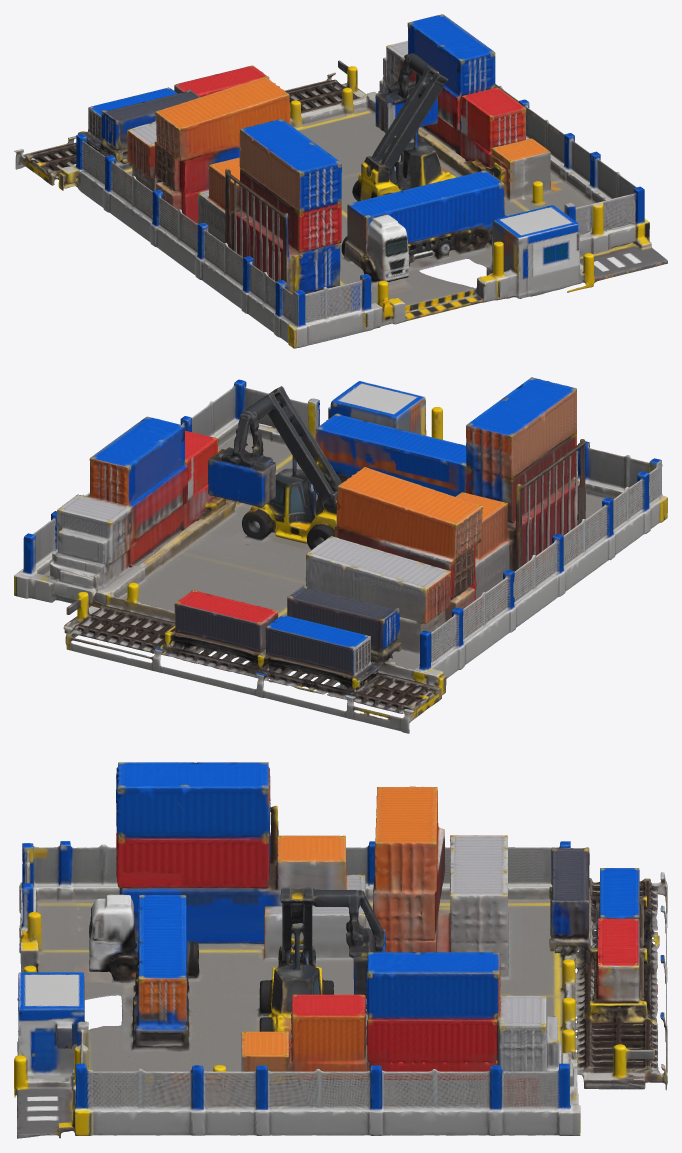
The model's file is container-yard.glb.
3 renders of one model, top to bottom at view 1: azimuth 30°, elevation 25°; view 2: azimuth 150°, elevation 25°; view 3: azimuth 270°, elevation 25°, orthographic. The views are drawn at different scales.
Size of the model in its own units: 1.68 by 0.5827 by 1.9.
1 material, 1 textured.
